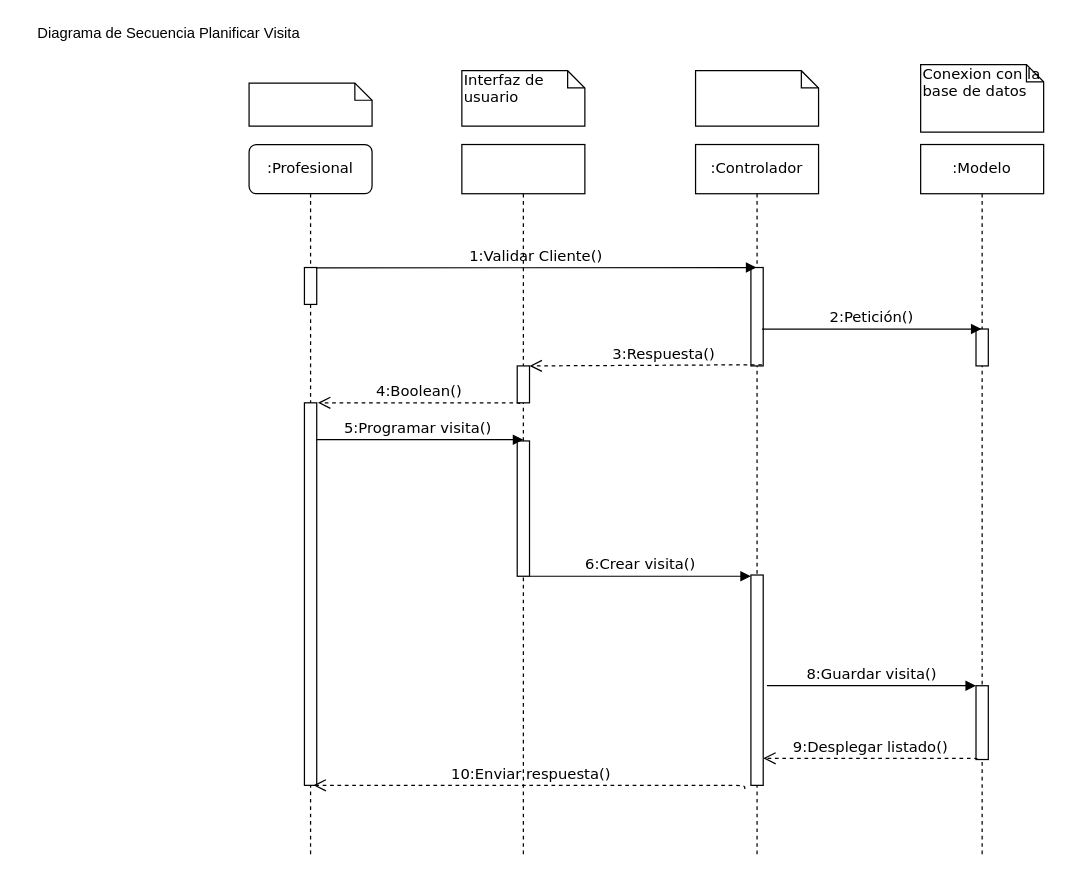
Some shapes in this 1065 by 879 pixel diagram are drawn without their labels. Each missing label, with the box of its shape:
:Vista: (461, 143, 585, 858)
Actor involucrado: (248, 82, 372, 126)
